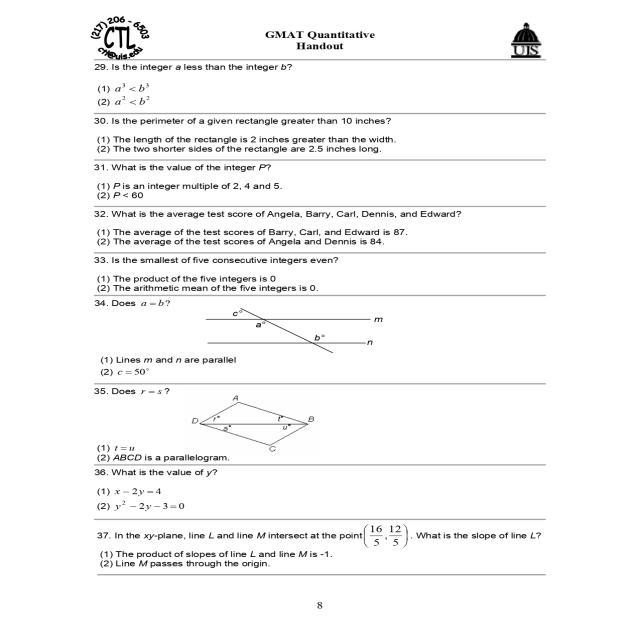Question_Block: (72, 294, 579, 384), (72, 383, 579, 468), (72, 464, 579, 520), (72, 519, 579, 574), (72, 60, 579, 112), (72, 160, 579, 208), (72, 205, 579, 252), (72, 252, 579, 295), (72, 117, 579, 158)
Question_Paper_Area: (72, 16, 579, 582)
